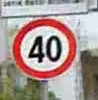limite 40: (12, 17, 77, 79)
